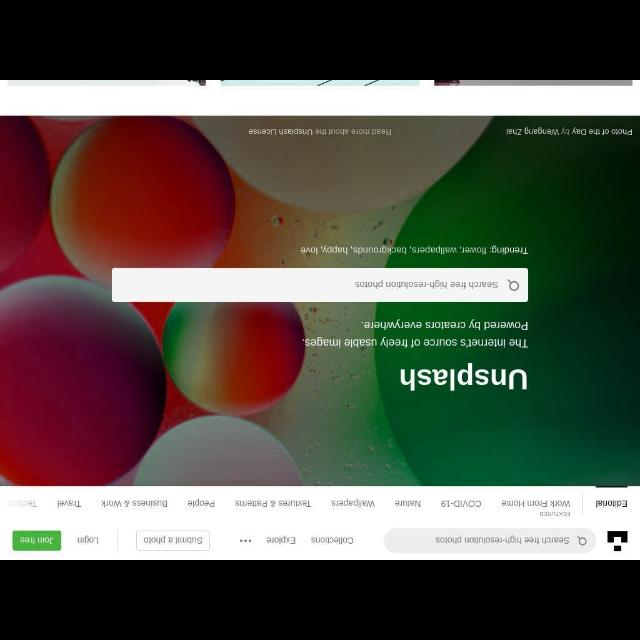backgroundimage: (1, 116, 640, 487)
icon: (507, 278, 519, 290), (576, 535, 586, 545), (238, 538, 252, 544)
image: (606, 531, 628, 551)
input: (111, 268, 528, 302), (384, 528, 596, 552)
text: (302, 318, 530, 348), (398, 364, 528, 391), (301, 246, 529, 254), (356, 279, 498, 289), (435, 535, 569, 545), (505, 127, 633, 137), (500, 499, 570, 517), (248, 127, 392, 135), (100, 498, 168, 508), (234, 499, 312, 507), (143, 536, 203, 544), (331, 498, 375, 508), (311, 536, 354, 544), (594, 498, 628, 508), (441, 500, 482, 508), (266, 535, 296, 545), (8, 498, 38, 508), (20, 536, 54, 544), (188, 498, 215, 508), (395, 498, 421, 508), (56, 498, 82, 508), (76, 536, 100, 544)
textbutton: (136, 530, 210, 550), (12, 530, 61, 550)
toolbar: (1, 486, 640, 560)
